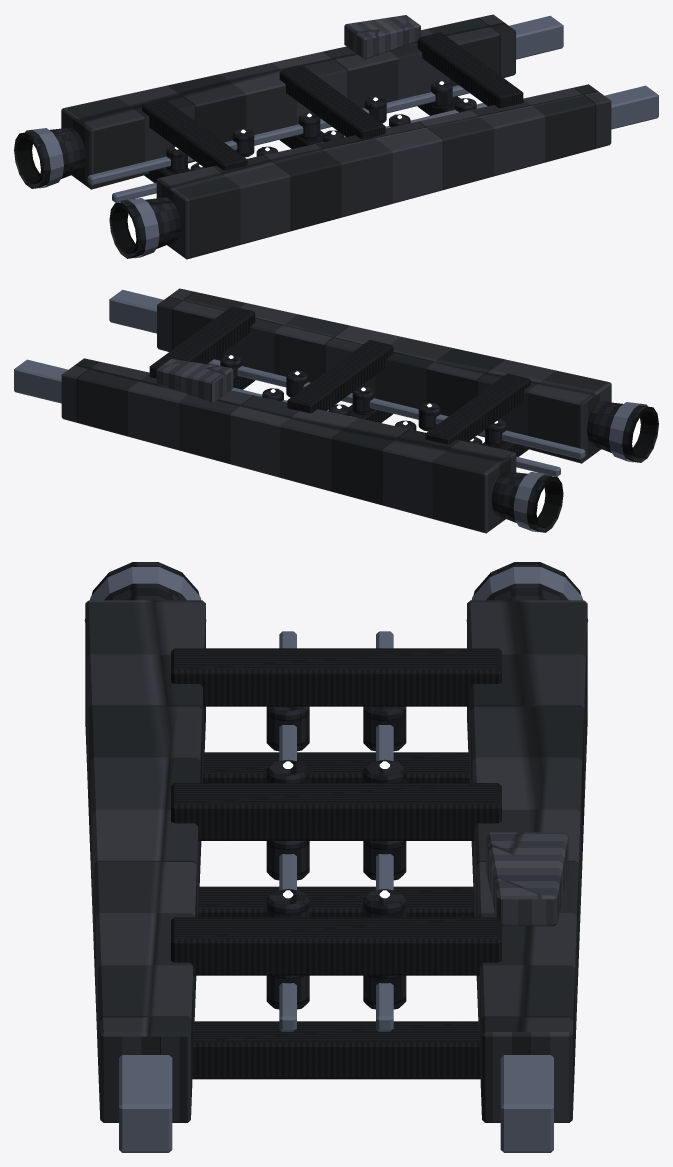
File: minelayer.glb
3 renders of one model, top to bottom at view 1: azimuth 30°, elevation 25°; view 2: azimuth 150°, elevation 25°; view 3: azimuth 270°, elevation 25°, orthographic. The views are drawn at different scales.
Visible parts, largest first — view 1: minelayer; view 2: minelayer; view 3: minelayer.
Boxes of the visible parts, x1,y1,x2,y2 form: minelayer: [14, 14, 658, 259]; minelayer: [14, 288, 658, 533]; minelayer: [84, 562, 588, 1152].
Bounding box in the file's own units: 26 × 4 × 10.72.
1 material, 1 textured.
